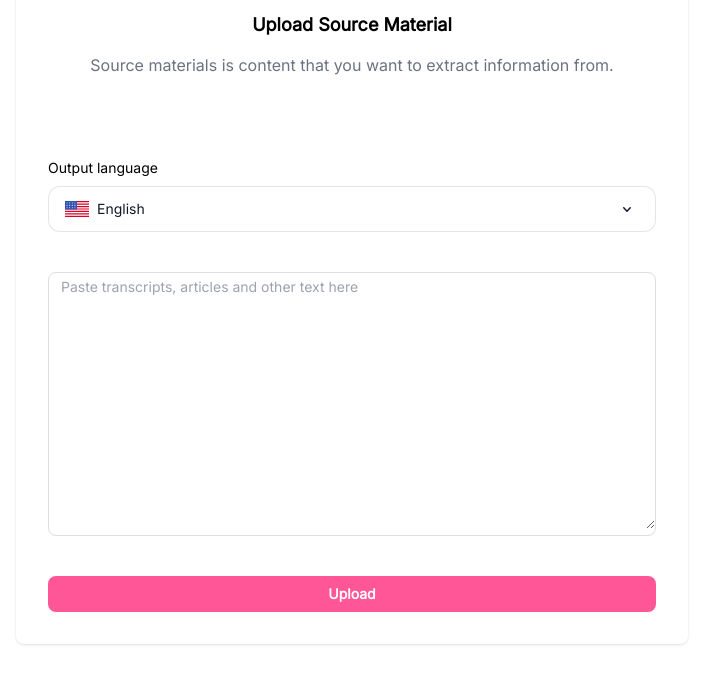
it: AI Application › submits an empty text input
Click the button "Upload".
click(352, 594)  # box [48,576,656,612]
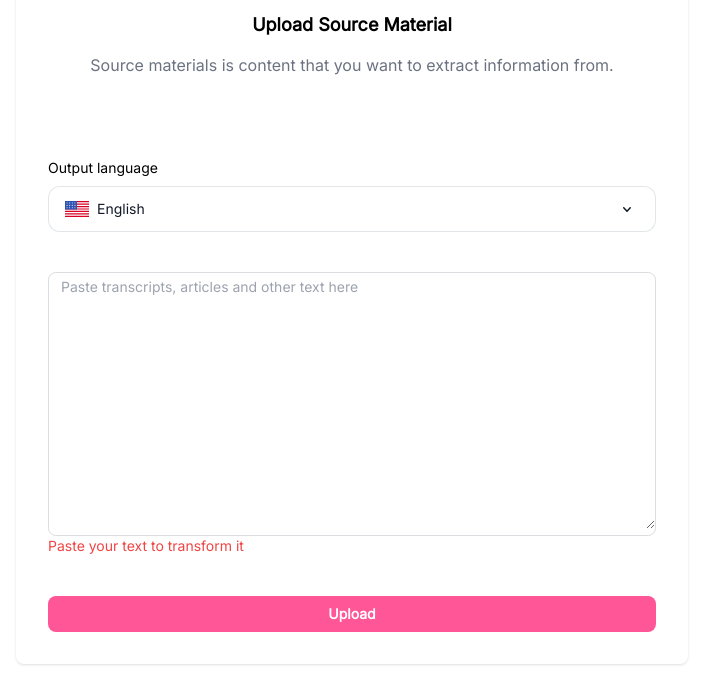
Result: the text "Paste your text to transform it" is shown at [48,536,244,556]
